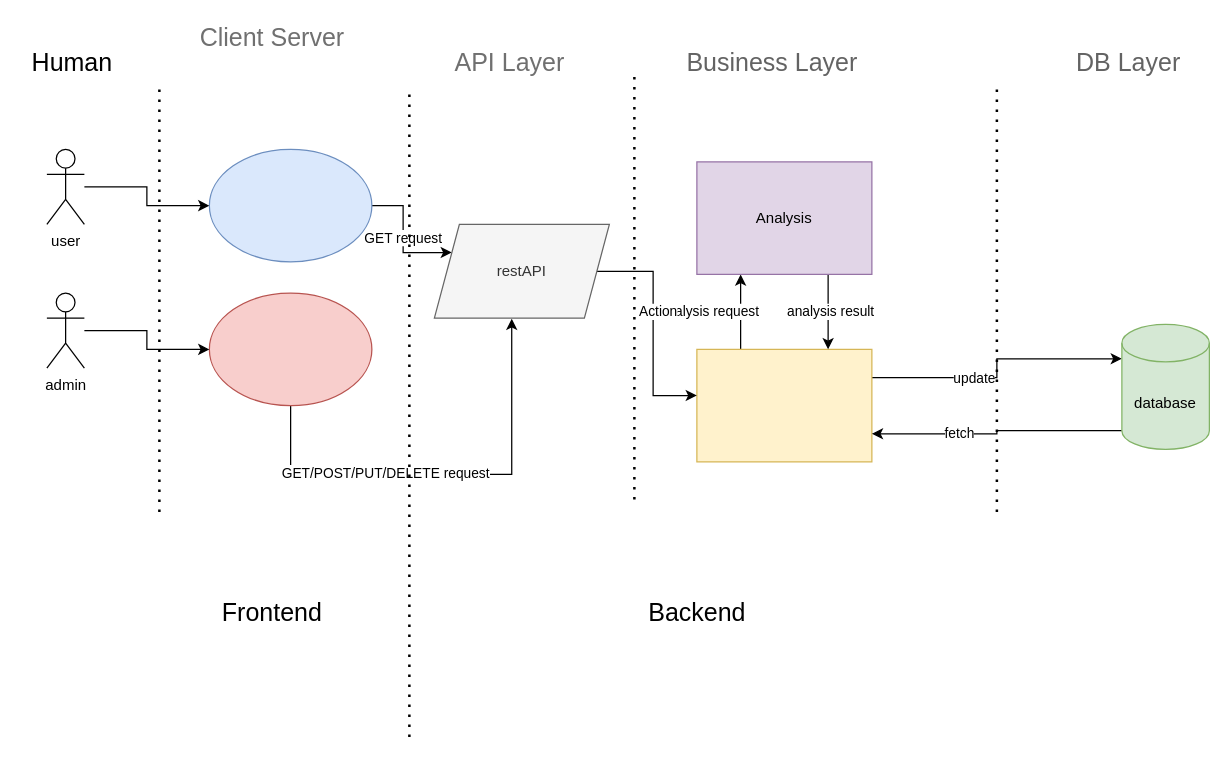
This 1231x760 diagram has some shape labels left out. Each missing label, with the centre of its shape:
"Admin UI" goes at pixel 290 349.
"Communication Logic" goes at pixel 784 405.
"UI" goes at pixel 290 205.
